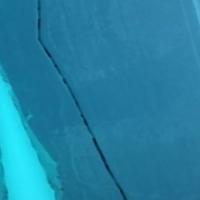crack: (25, 1, 135, 199)
